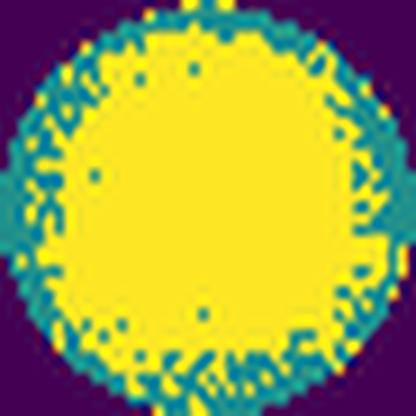Center: (40, 29, 388, 372)
